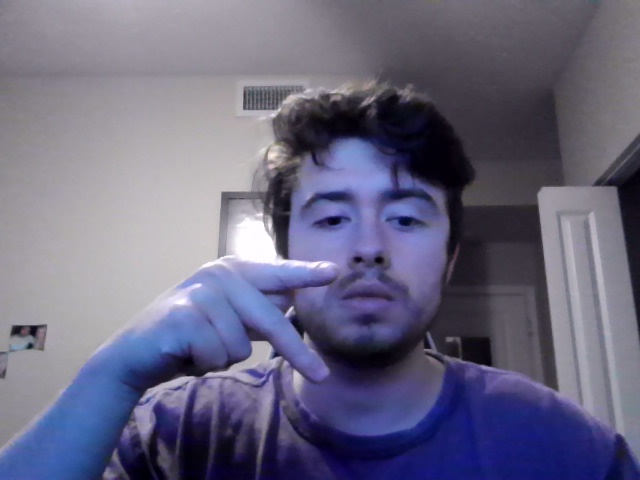p: (89, 254, 340, 408)
